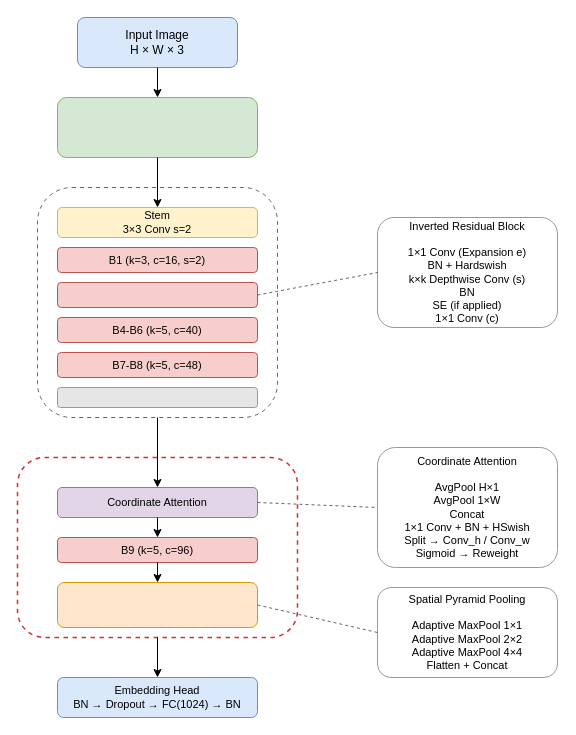
Some shapes in this 576 by 735 pixel diagram are drawn without their labels. The shapes that lost their labels are listed below. From the top down, each one's box as (x1, y1, x2, y2) in pixels, then its label:
(56, 96, 258, 158): Spatial Transformer Network Conv7×7 → Conv5×5 → FC(6) Affine Grid + Sampling
(56, 282, 258, 308): B2-B3 (k=3, c=24, s=2)
(56, 386, 258, 408): × Removed B10-B11
(16, 456, 298, 638): Scale-Coordinate Invariant Block (SCIB)
(56, 582, 258, 628): Spatial Pyramid Pooling Adaptive 1×1 | 2×2 | 4×4 Flatten + Concat
